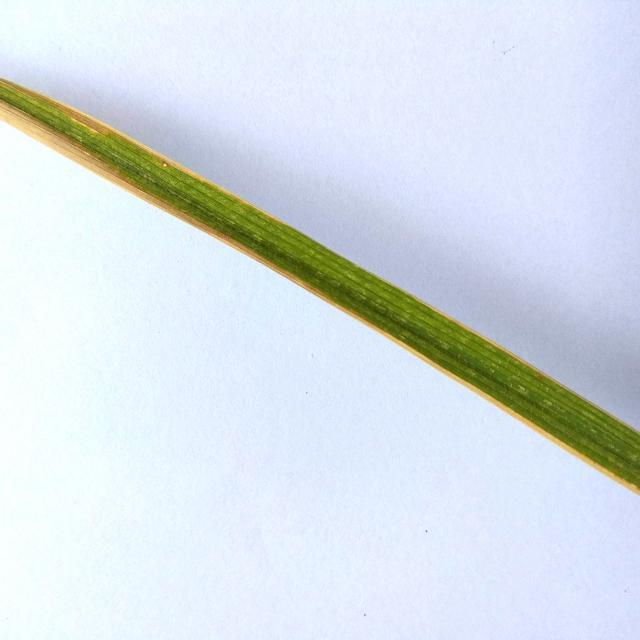Blast: (159, 160, 171, 170)
